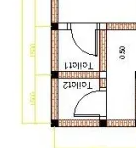door: (69, 90, 114, 118), (69, 24, 99, 61)
